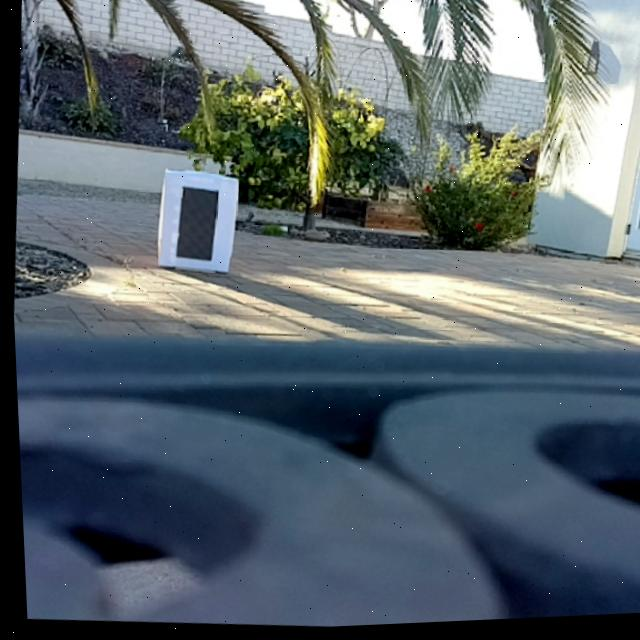led: (172, 187, 218, 264)
